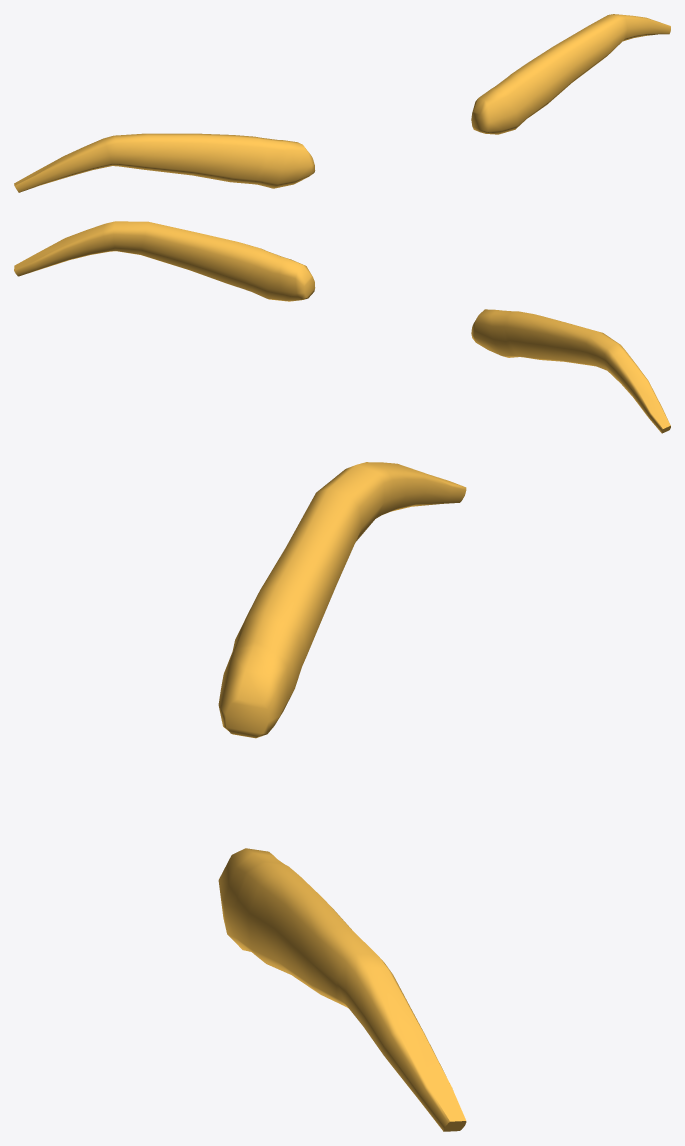
Rendered from Eyebrows_11_05.fbx.
The picture shows the model from 3 angles, top to bottom: view 1: azimuth 30°, elevation 25°; view 2: azimuth 150°, elevation 25°; view 3: azimuth 270°, elevation 25°; orthographic projection. The views are drawn at different scales.
Parts seen in each view (by area): view 1: Eyebrows_11_05; view 2: Eyebrows_11_05; view 3: Eyebrows_11_05.
Boxes of the visible parts, x1,y1,x2,y2 form: Eyebrows_11_05: [14, 14, 670, 192]; Eyebrows_11_05: [14, 221, 670, 433]; Eyebrows_11_05: [218, 462, 466, 1131].
Size of the model in its own units: 19.56 by 1.82 by 3.2.
